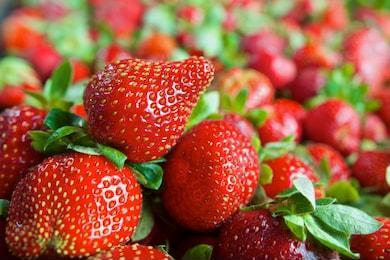Fresa: (4, 139, 146, 260), (78, 54, 218, 167), (160, 113, 262, 238)
